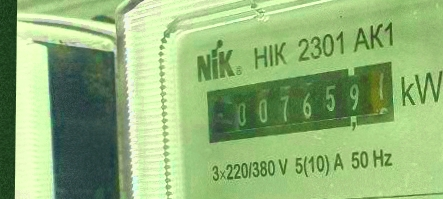0: (235, 98, 248, 126), (256, 96, 269, 124)
1: (374, 71, 386, 102)
5: (322, 82, 337, 114)
6: (300, 89, 313, 120)
7: (277, 91, 291, 123)
9: (346, 79, 361, 114)
screen: (192, 53, 414, 150)
